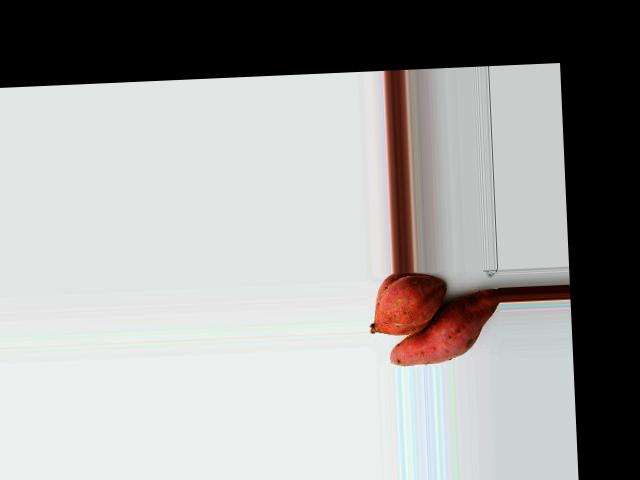sweet_potato: (367, 279, 443, 331)
